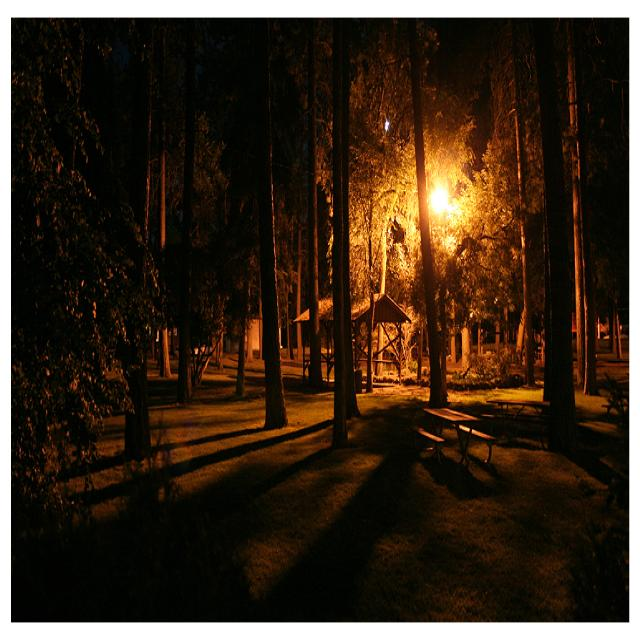Table: (481, 383, 552, 434), (422, 393, 474, 443)
chair: (568, 395, 631, 497), (408, 417, 452, 472), (459, 413, 499, 462)
